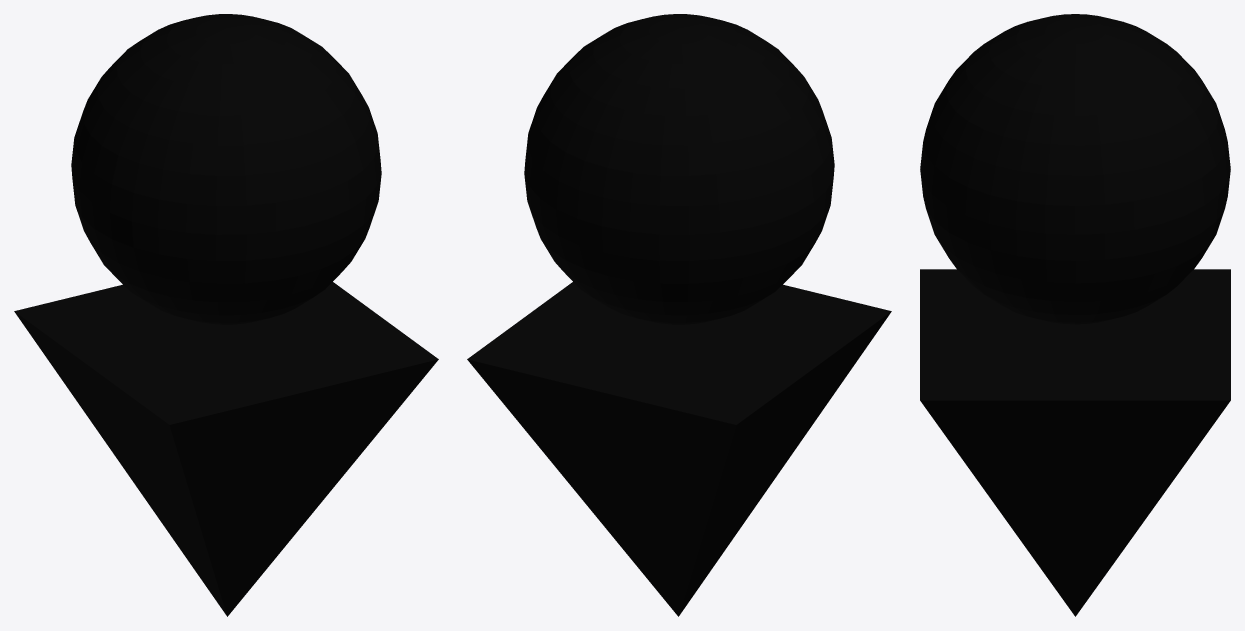
The model's file is enemy.gltf.
3 views of the same model, side by side, from view 1: azimuth 30°, elevation 25°; view 2: azimuth 150°, elevation 25°; view 3: azimuth 270°, elevation 25° (orthographic).
Visible parts, largest first — view 1: Cube; view 2: Cube; view 3: Cube.
Boxes of the visible parts, x1=… form: Cube: x1=14, y1=14, x2=438, y2=616; Cube: x1=467, y1=14, x2=891, y2=616; Cube: x1=920, y1=14, x2=1230, y2=616.
Bounding box in the file's own units: 2 × 4.18 × 2.
1 material, 1 textured.
